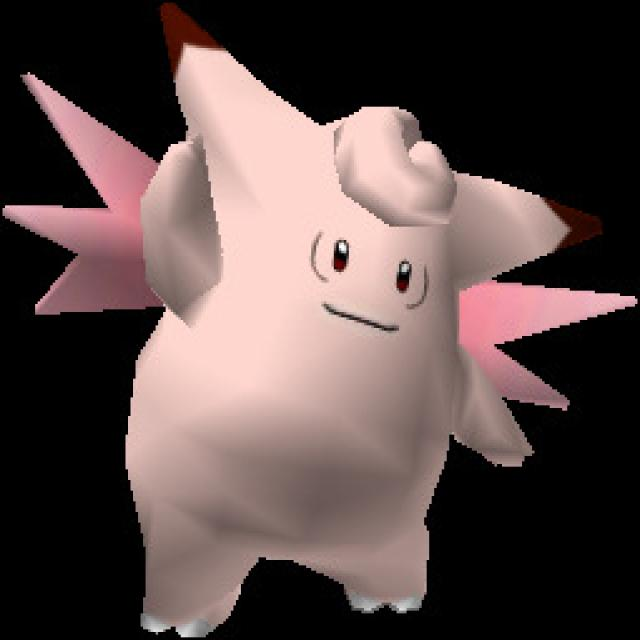Clefable: (124, 46, 526, 619)
